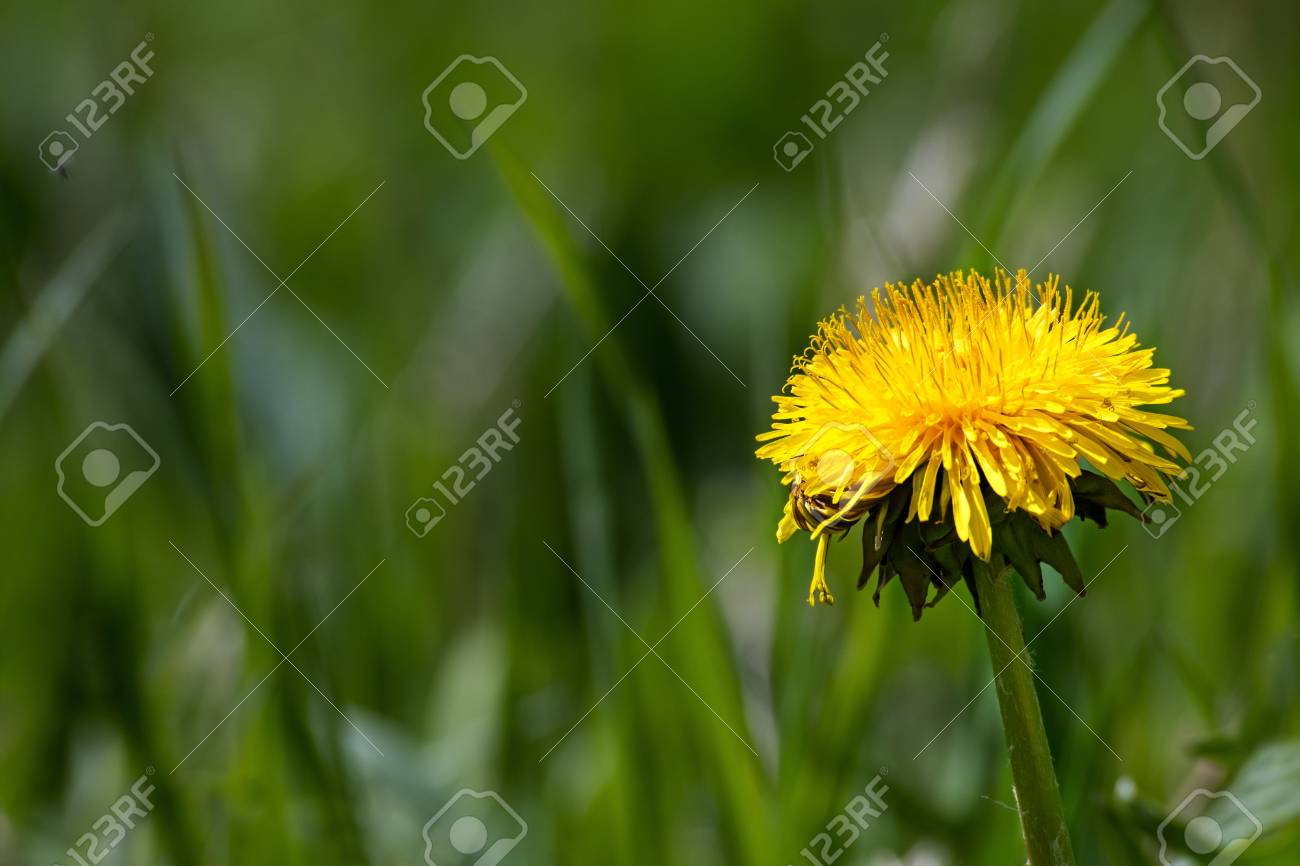dandelion: (759, 264, 1204, 614)
